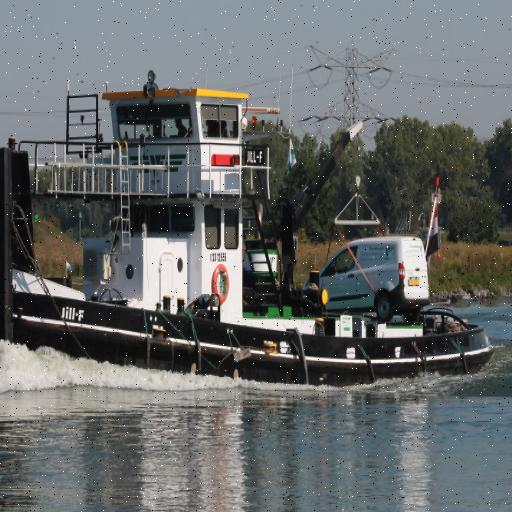tugboat: (1, 67, 497, 397)
